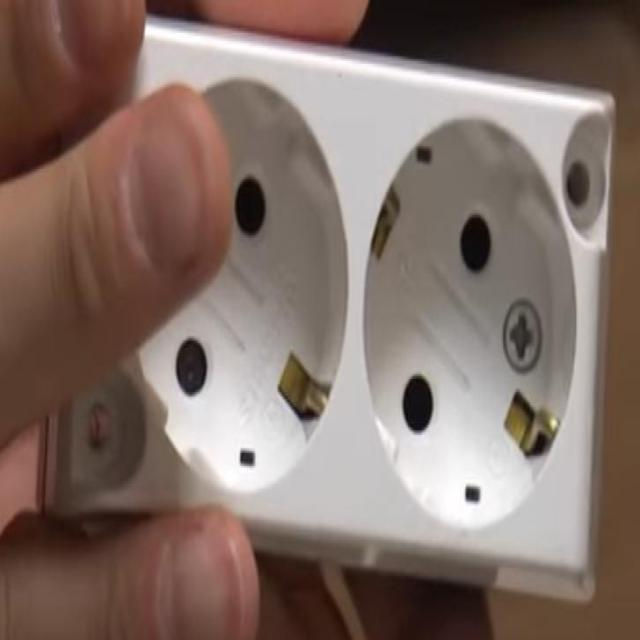hidden camera: (175, 332, 208, 401)
